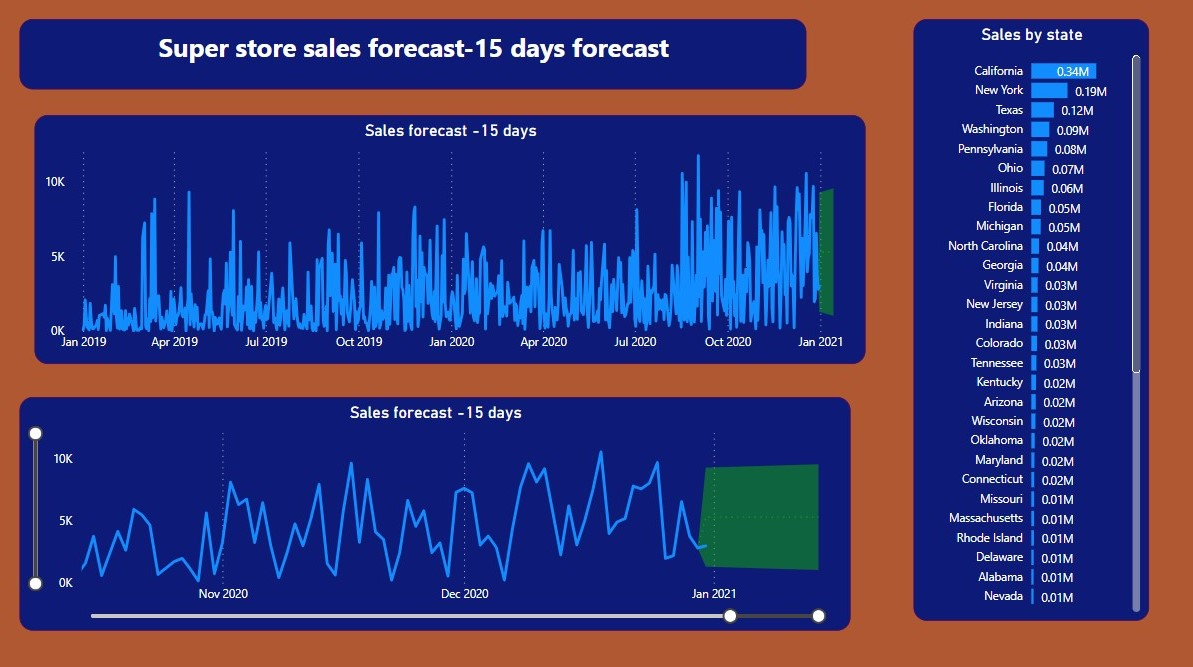

The dashboard page shown, as its layout file describes it:
{"tool":"powerbi","page":{"name":"Page 2","canvas":[1280,720],"ordinal":1},"visuals":[{"type":"lineChart","title":"Sales forecast -15 days","fields":{"Y":["Sum(SuperStore_Sales_Dataset.Sales)"],"Category":["SuperStore_Sales_Dataset.Order Date.Variation.Date Hierarchy.Year","SuperStore_Sales_Dataset.Order Date.Variation.Date Hierarchy.Quarter","SuperStore_Sales_Dataset.Order Date.Variation.Date Hierarchy.Month","SuperStore_Sales_Dataset.Order Date.Variation.Date Hierarchy.Day"]},"box":[54.7,128.1,865.2,259.3],"z":0},{"type":"lineChart","title":"Sales forecast -15 days","fields":{"Y":["Sum(SuperStore_Sales_Dataset.Sales)"],"Category":["SuperStore_Sales_Dataset.Order Date.Variation.Date Hierarchy.Year","SuperStore_Sales_Dataset.Order Date.Variation.Date Hierarchy.Quarter","SuperStore_Sales_Dataset.Order Date.Variation.Date Hierarchy.Month","SuperStore_Sales_Dataset.Order Date.Variation.Date Hierarchy.Day"]},"box":[39,421.7,865.2,243.6],"z":1000},{"type":"textbox","box":[39.6,28.3,819.4,73.6],"z":2000},{"type":"clusteredBarChart","title":" Sales by state","fields":{"Y":["Sum(SuperStore_Sales_Dataset.Sales)"],"Category":["SuperStore_Sales_Dataset.State"]},"box":[970.4,28.3,245.4,626.8],"z":3000}]}

Visuals, with their boxes in screenshot pixels (x1, y1, x2, y2), scaled from the page's 1280x720 canvas onto the 1193x667 screenshot:
"Sales forecast -15 days" lineChart: (51,119,857,359)
"Sales forecast -15 days" lineChart: (36,391,843,616)
textbox: (37,26,801,94)
" Sales by state" clusteredBarChart: (904,26,1133,607)
